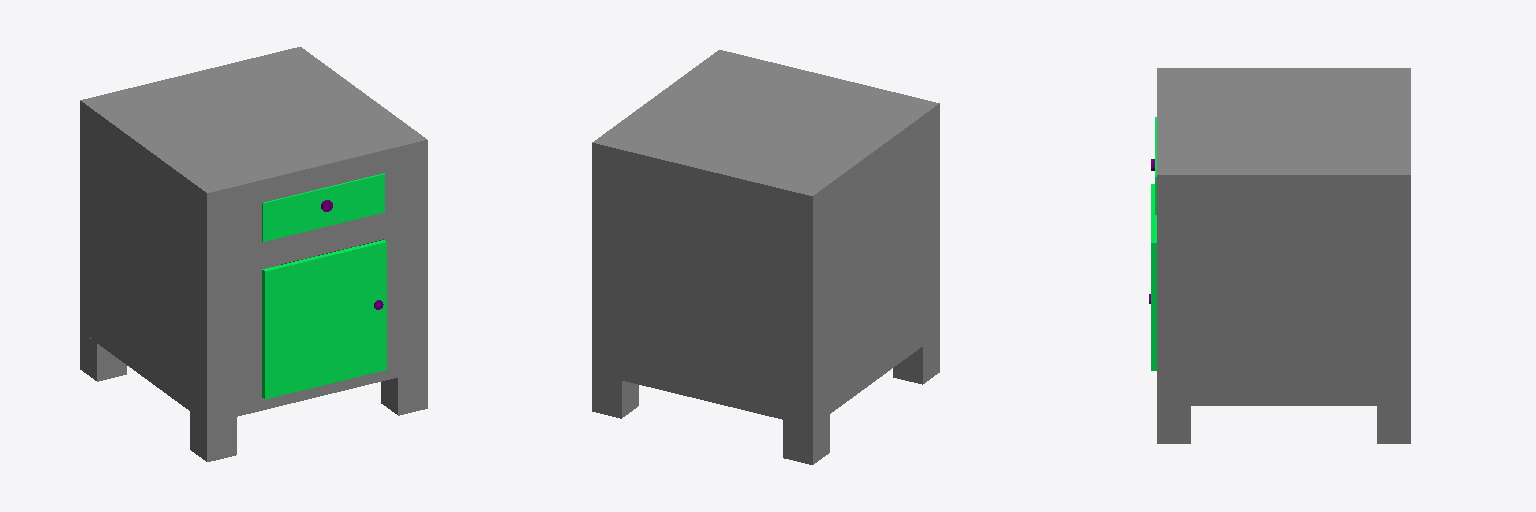
3 views of the same model, side by side, from view 1: azimuth 30°, elevation 25°; view 2: azimuth 150°, elevation 25°; view 3: azimuth 270°, elevation 25° (orthographic).
Visible parts, largest first — view 1: Box002, Box009, Box008, Box001, Box003, Box004; view 2: Box002, Box004, Box005, Box001; view 3: Box002, Box003, Box005, Box009.
Boxes of the visible parts, x1,y1,x2,y2 form: Box002: [80, 47, 427, 423]; Box009: [262, 240, 386, 399]; Box008: [262, 173, 384, 241]; Box001: [190, 412, 236, 461]; Box003: [381, 370, 427, 415]; Box004: [80, 331, 126, 381]; Box002: [592, 50, 939, 426]; Box004: [783, 415, 829, 464]; Box005: [592, 373, 638, 418]; Box001: [893, 334, 939, 384]; Box002: [1157, 68, 1410, 405]; Box003: [1157, 406, 1190, 443]; Box005: [1377, 406, 1410, 443]; Box009: [1151, 184, 1156, 370].
Size of the model in its own units: 35.44 by 41.34 by 36.57.
Materials: 3 (2 with a texture image).